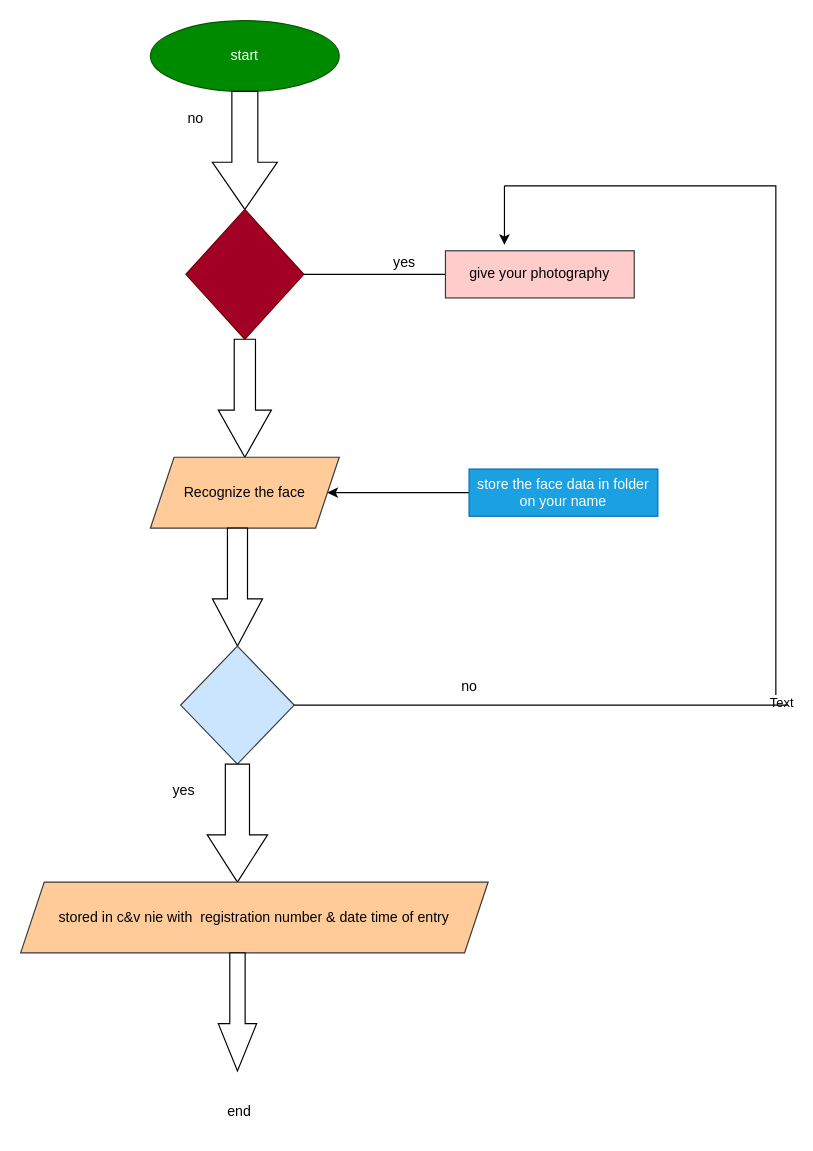
Image size: 813x1151. Some labels were removed from this diagram. Here are the shapes that lost their labels. From the top down, the box of each, then its label:
(185, 208, 304, 339): new user?
(179, 645, 294, 764): Face recognize
